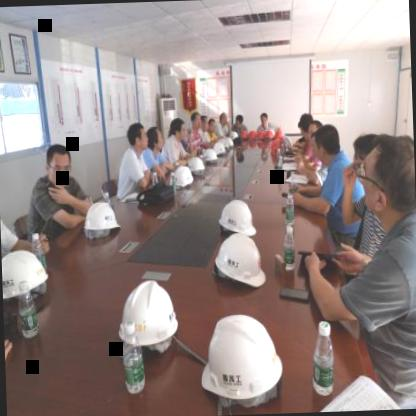head: (360, 134, 416, 230), (42, 140, 76, 192), (310, 121, 342, 168), (125, 119, 149, 154), (144, 125, 165, 156), (297, 113, 318, 144), (168, 115, 188, 144), (190, 110, 204, 134), (232, 112, 247, 134), (258, 110, 272, 128), (218, 109, 230, 130), (207, 113, 217, 136), (200, 113, 208, 136)
